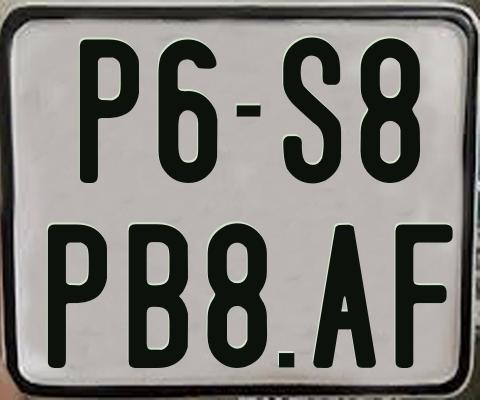6: (155, 38, 218, 183)
8: (358, 37, 424, 184), (207, 220, 270, 367)
A: (311, 224, 375, 367)
B: (127, 221, 188, 371)
F: (393, 221, 452, 367)
P: (47, 224, 112, 374), (77, 36, 136, 185)
S: (280, 35, 343, 182)
